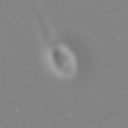normal: (28, 1, 55, 47)
